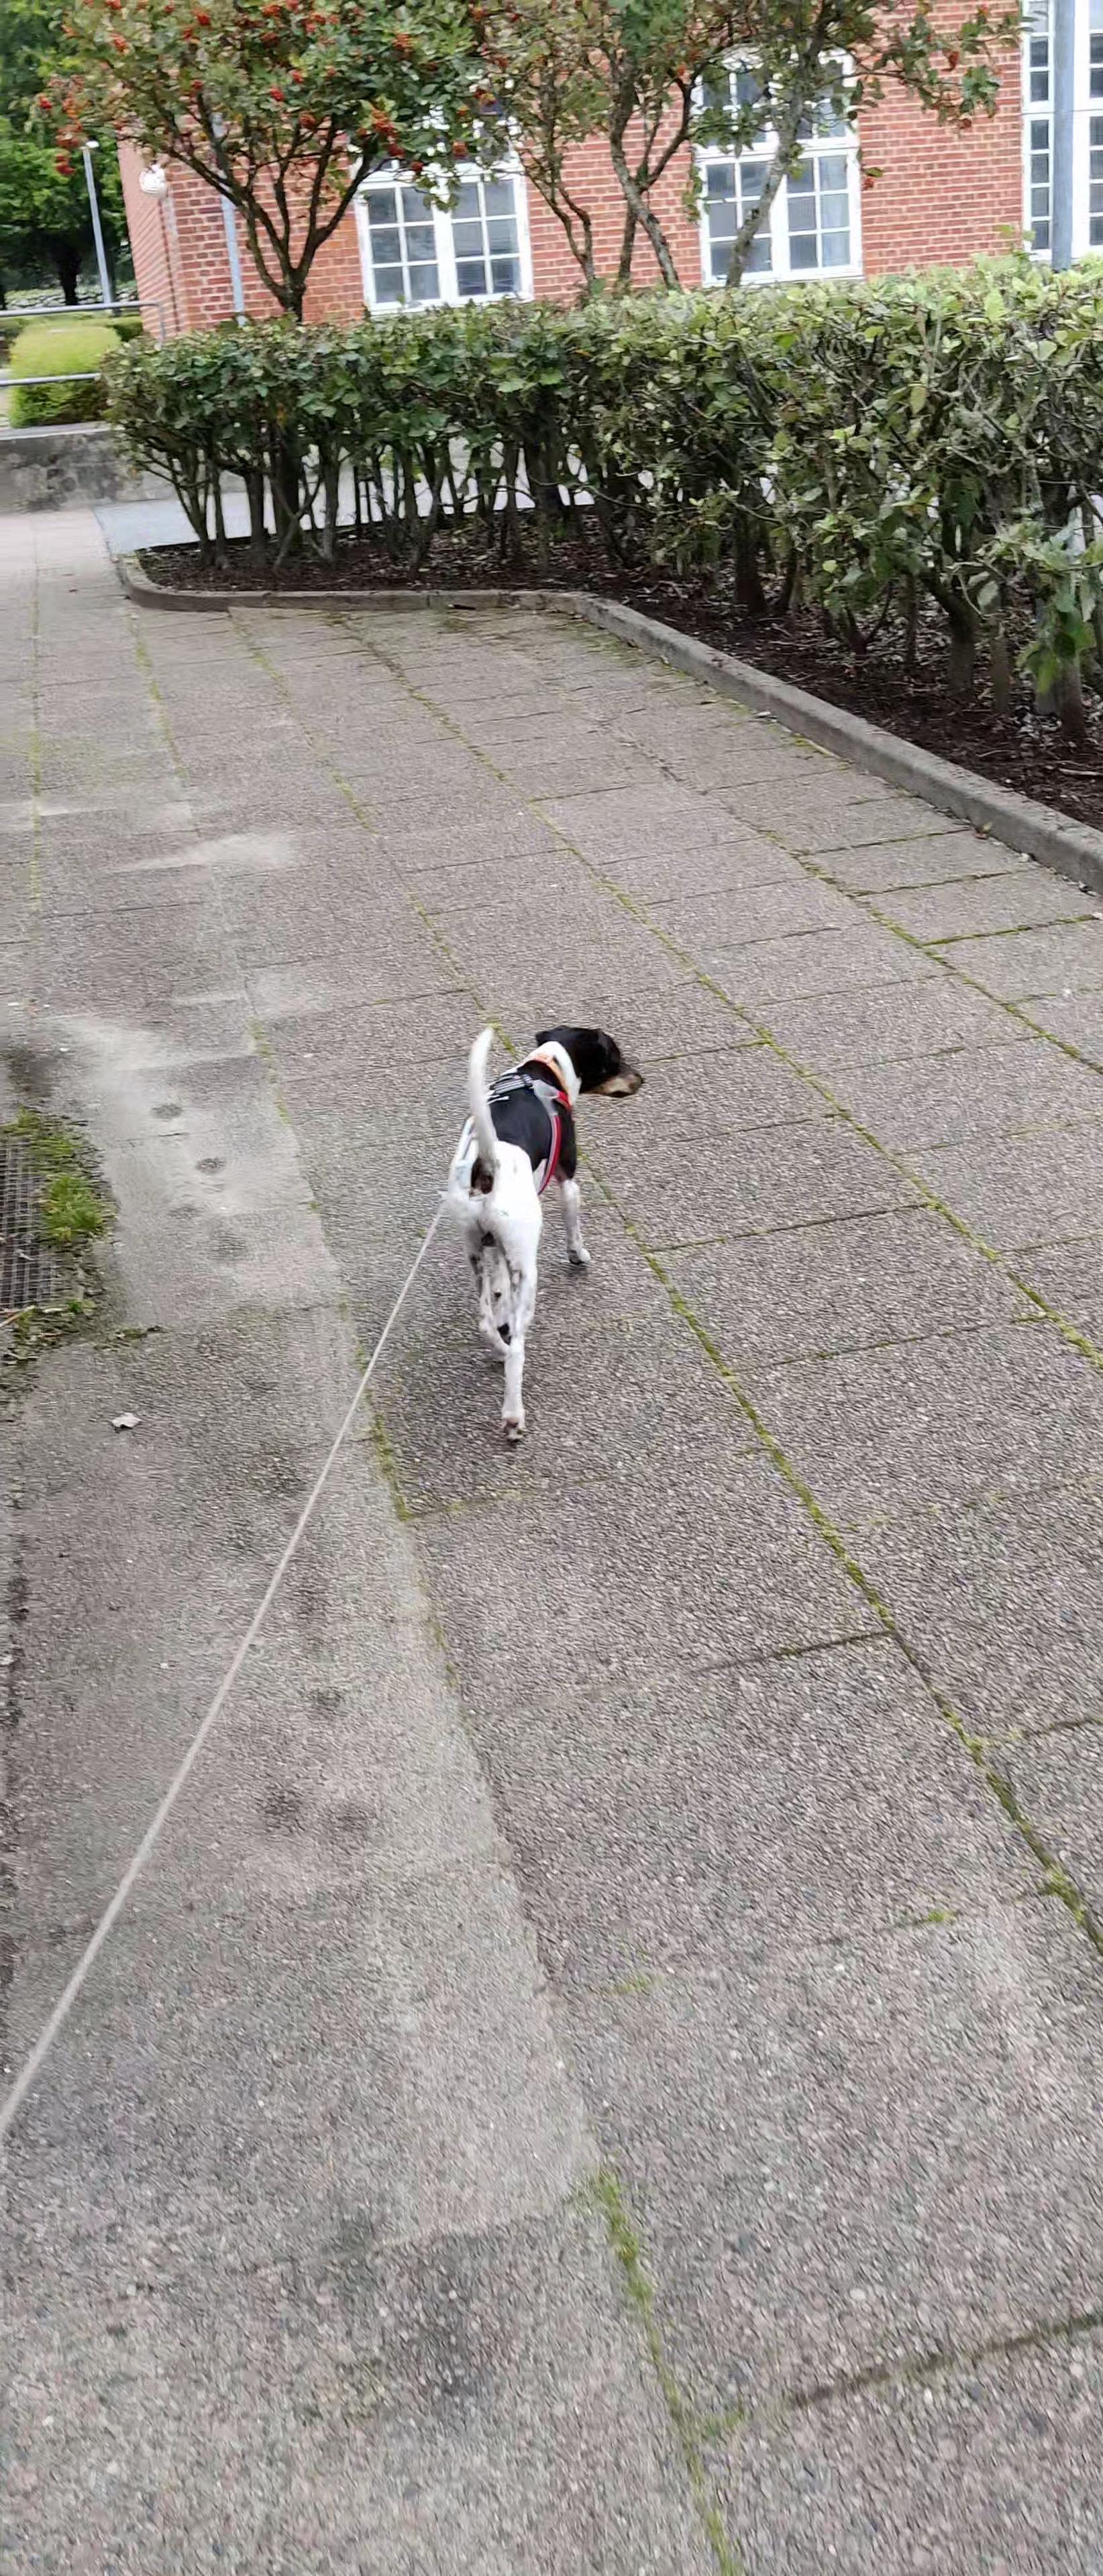Dog: (426, 994, 656, 1457)
